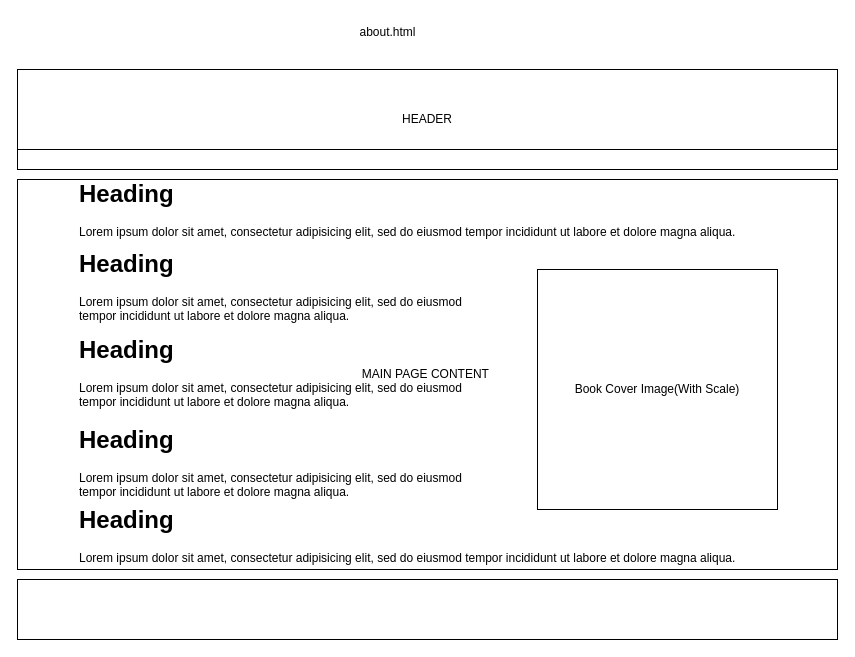
Image size: 855x657. Some labels were removed from this diagram. Each missing label, with the centre of its shape:
FOOTER: (427,609)
NAV BAR - INSIDE HEADER: (427,159)
